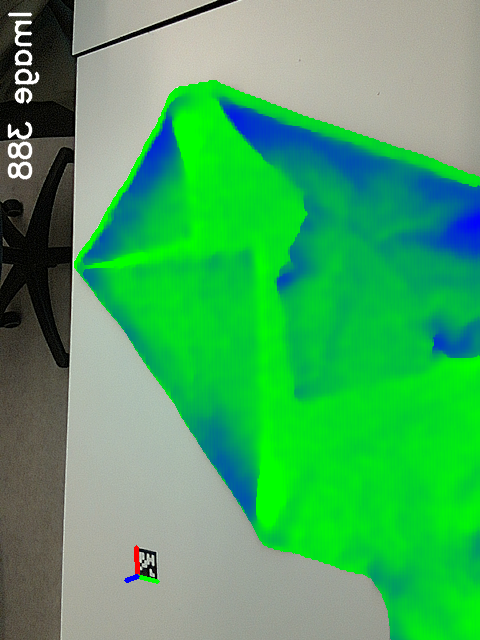V: (282, 352, 340, 413), (146, 191, 208, 247), (224, 238, 268, 293)
